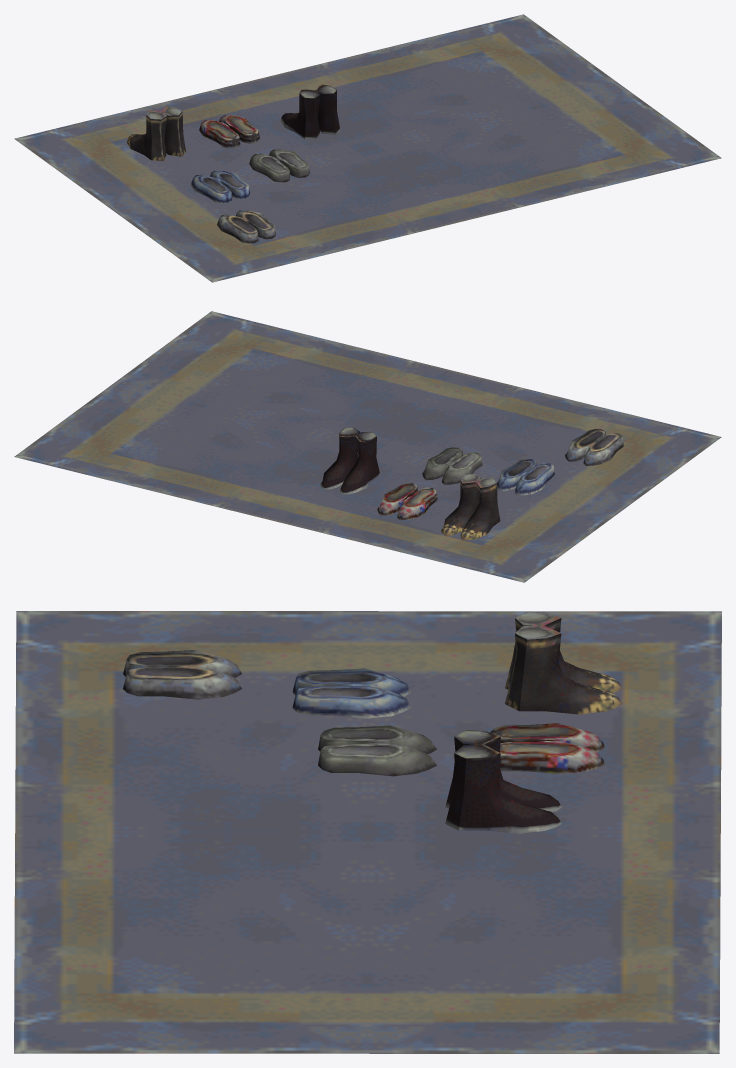
The model's file is xs__Item_xiezi_1.FBX.
3 renders of one model, top to bottom at view 1: azimuth 30°, elevation 25°; view 2: azimuth 150°, elevation 25°; view 3: azimuth 270°, elevation 25°, orthographic. The views are drawn at different scales.
Parts seen in each view (by area): view 1: xs__Item_xiezi_002; view 2: xs__Item_xiezi_002; view 3: xs__Item_xiezi_002.
Part boxes in pixels (bbox=[...]): xs__Item_xiezi_002: bbox=[14, 14, 721, 282]; xs__Item_xiezi_002: bbox=[14, 311, 721, 582]; xs__Item_xiezi_002: bbox=[14, 611, 721, 1053].
Size of the model in its own units: 171 by 13.22 by 115.
